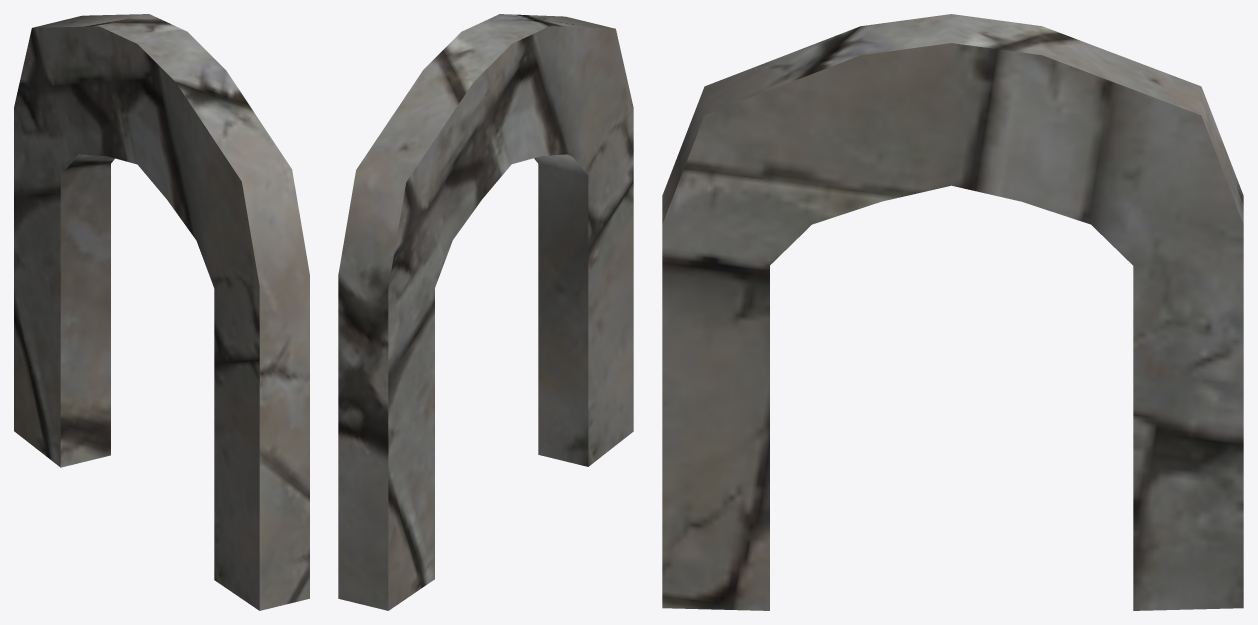
The model's file is arch fbx.fbx.
The picture shows the model from 3 angles, left to right: view 1: azimuth 30°, elevation 25°; view 2: azimuth 150°, elevation 25°; view 3: azimuth 270°, elevation 25°; orthographic projection. The views are drawn at different scales.
Parts seen in each view (by area): view 1: Box001; view 2: Box001; view 3: Box001.
Part boxes in pixels (<box>): Box001: <box>14,14,309,610</box>; Box001: <box>338,14,633,610</box>; Box001: <box>662,14,1243,610</box>.
Size of the model in its own units: 16.54 by 151 by 140.
Materials: 1 (1 with a texture image).
